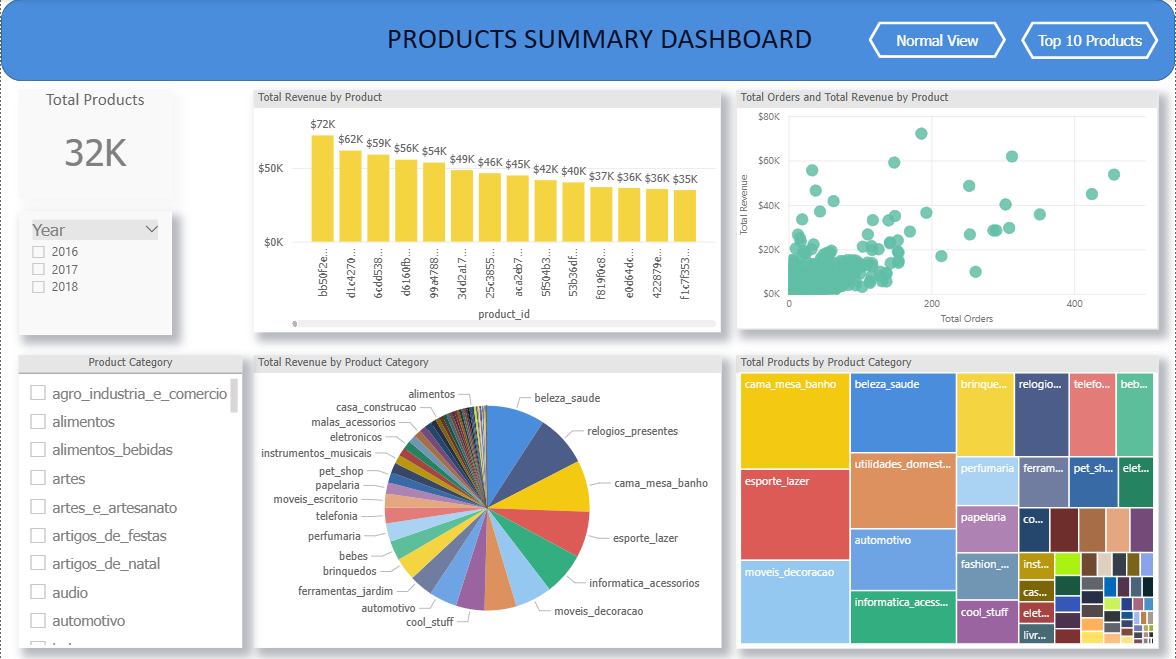

The dashboard page shown, as its layout file describes it:
{"tool":"powerbi","page":{"name":"Products","canvas":[1280,720],"ordinal":3},"visuals":[{"type":"shape","box":[0,0,1280.5,89.5],"z":0},{"type":"textbox","box":[415.2,18.3,489.7,53.2],"z":1000},{"type":"card","title":"Total Products","fields":{"Values":["AllMeasures.Total Products"]},"box":[19.2,98.7,167.3,119.3],"z":2000},{"type":"clusteredColumnChart","title":"Total Revenue by Product","fields":{"Y":["AllMeasures.Total Revenue"],"Category":["DimProduct.product_id"]},"box":[275.6,99.3,509.6,263.7],"z":3000},{"type":"treemap","title":"Total Products by Product Category","fields":{"Group":["DimProduct.product_category_name"],"Values":["AllMeasures.Total Products"]},"box":[801.5,388.1,460.7,320],"z":4000},{"type":"pieChart","title":"Total Revenue by Product Category","fields":{"Category":["DimProduct.product_category_name"],"Y":["AllMeasures.Total Revenue"]},"box":[275.6,388,510,319.5],"z":5000},{"type":"slicer","fields":{"Values":["DimDate.Year"]},"box":[19.2,231.7,167.3,134.4],"z":6000},{"type":"slicer","title":"Product Category","fields":{"Values":["DimProduct.product_category_name"]},"box":[19.2,388,244,319.5],"z":7000},{"type":"scatterChart","title":"Total Orders and Total Revenue by Product","fields":{"X":["AllMeasures.Total Orders"],"Y":["AllMeasures.Total Revenue"],"Category":["DimProduct.product_id"]},"box":[801.5,99.3,460.7,260.7],"z":8000},{"type":"actionButton","box":[946.4,24.8,150.1,39.7],"z":12000},{"type":"actionButton","box":[1112.6,24.8,150,40.9],"z":13000}]}

Visuals, with their boxes in screenshot pixels (x1, y1, x2, y2), scaled from the page's 1280x720 canvas onto the 1176x659 screenshot:
shape: Rect(0, 0, 1175, 82)
textbox: Rect(381, 17, 831, 65)
"Total Products" card: Rect(18, 90, 171, 200)
"Total Revenue by Product" clusteredColumnChart: Rect(253, 91, 721, 332)
"Total Products by Product Category" treemap: Rect(736, 355, 1160, 648)
"Total Revenue by Product Category" pieChart: Rect(253, 355, 722, 648)
slicer - DimDate.Year: Rect(18, 212, 171, 335)
"Product Category" slicer: Rect(18, 355, 242, 648)
"Total Orders and Total Revenue by Product" scatterChart: Rect(736, 91, 1160, 330)
actionButton: Rect(870, 23, 1007, 59)
actionButton: Rect(1022, 23, 1160, 60)
